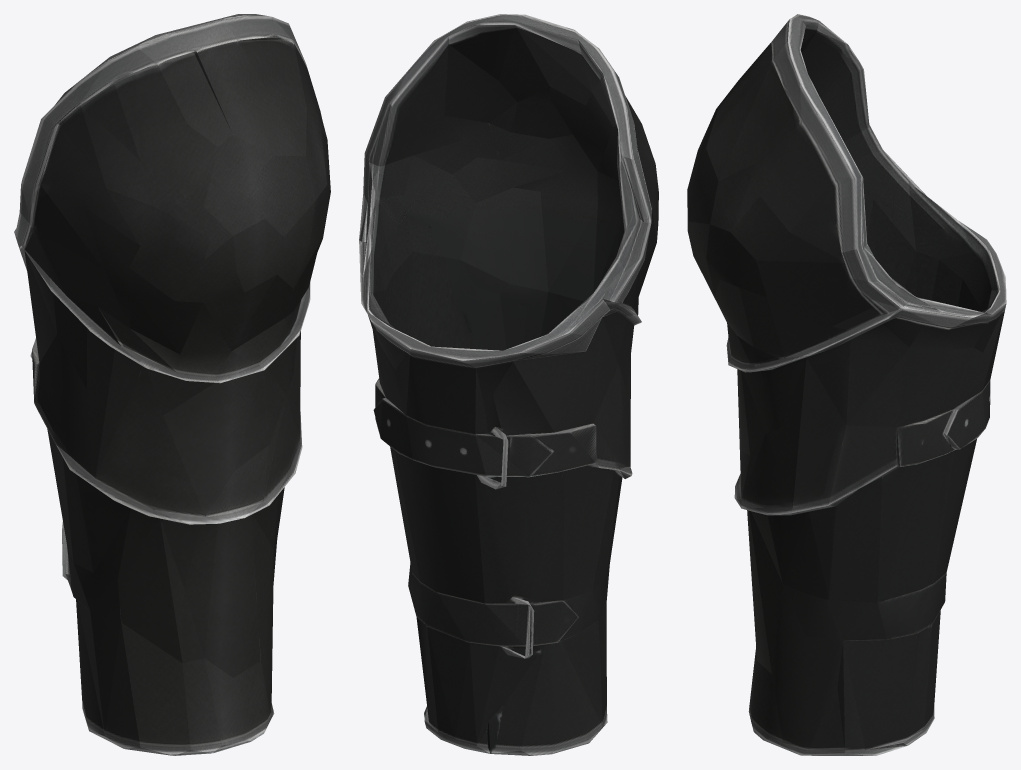
The model's file is greave.glb.
The picture shows the model from 3 angles, left to right: view 1: azimuth 30°, elevation 25°; view 2: azimuth 150°, elevation 25°; view 3: azimuth 270°, elevation 25°; orthographic projection. The views are drawn at different scales.
Parts seen in each view (by area): view 1: Mesh_0; view 2: Mesh_0; view 3: Mesh_0.
Boxes of the visible parts, <box> form: Mesh_0: <box>14,14,330,755</box>; Mesh_0: <box>359,14,658,755</box>; Mesh_0: <box>687,14,1006,755</box>.
Bounding box in the file's own units: 0.834 × 1.9 × 0.7985.
Materials: 1 (1 with a texture image).
